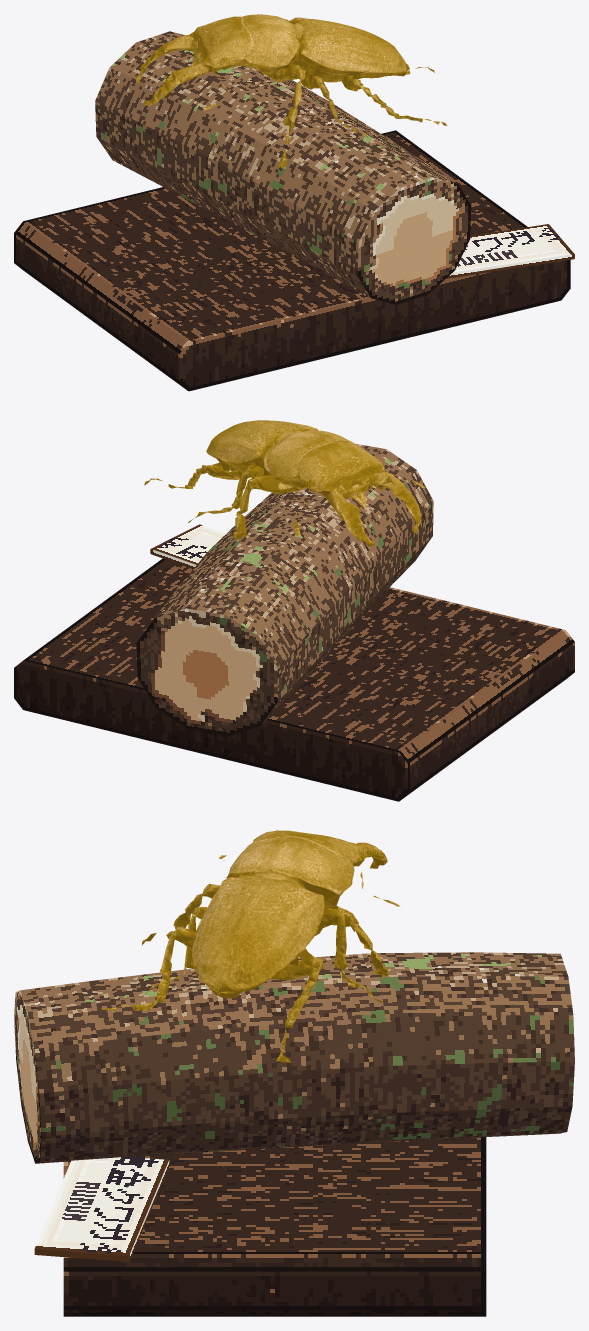
The model's file is golden.glb.
The picture shows the model from 3 angles, top to bottom: view 1: azimuth 30°, elevation 25°; view 2: azimuth 150°, elevation 25°; view 3: azimuth 270°, elevation 25°; orthographic projection. The views are drawn at different scales.
Visible parts, largest first — view 1: base, log, model_beetle, label; view 2: base, log, model_beetle, label; view 3: log, base, model_beetle, label.
Boxes of the visible parts, x1=… form: base: x1=14, y1=130, x2=570, y2=391; log: x1=95, y1=31, x2=471, y2=304; model_beetle: x1=136, y1=14, x2=447, y2=167; label: x1=446, y1=224, x2=574, y2=278; base: x1=14, y1=558, x2=574, y2=801; log: x1=136, y1=444, x2=433, y2=735; model_beetle: x1=144, y1=420, x2=425, y2=546; label: x1=150, y1=524, x2=225, y2=568; log: x1=14, y1=952, x2=574, y2=1163; base: x1=63, y1=1137, x2=486, y2=1316; model_beetle: x1=100, y1=830, x2=400, y2=1062; label: x1=34, y1=1157, x2=169, y2=1261.
Bounding box in the file's own units: 30.34 × 19.54 × 29.2.
2 materials, 2 textured.
